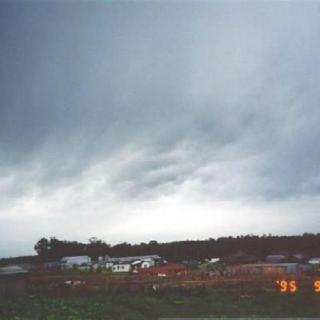Nimbostratus: (0, 0, 320, 214)
